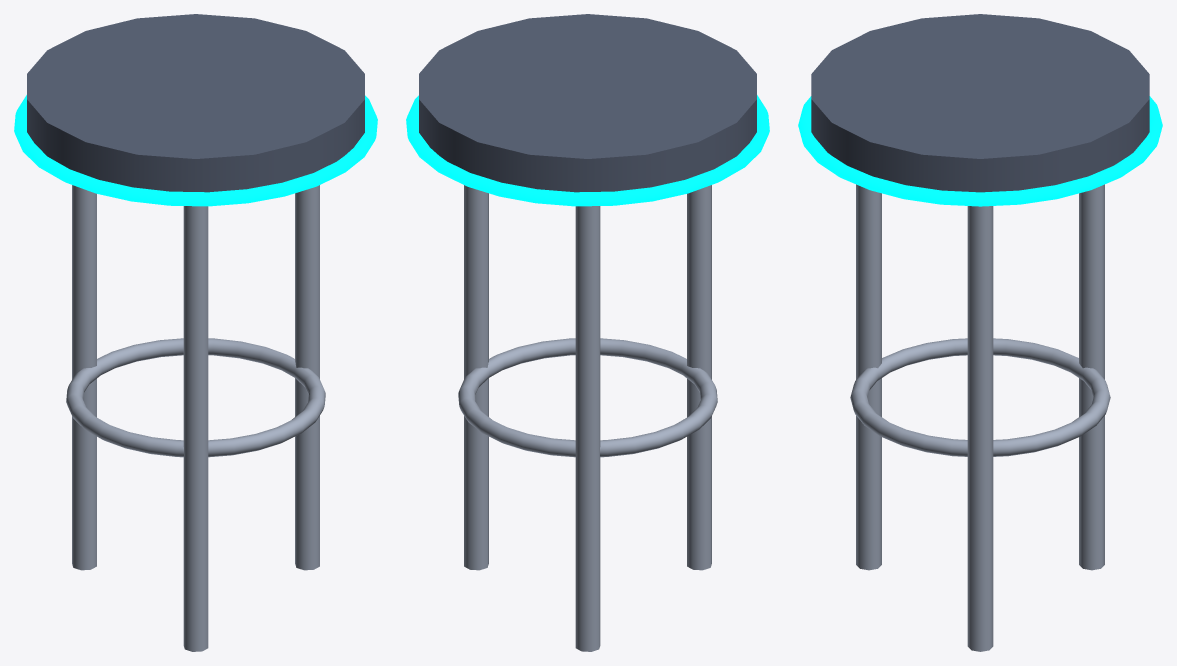
Rendered from table_cool_0.glb.
3 renders of one model, left to right at view 1: azimuth 30°, elevation 25°; view 2: azimuth 150°, elevation 25°; view 3: azimuth 270°, elevation 25°, orthographic.
Bounding box in the file's own units: 0.51 × 0.78 × 0.51.
